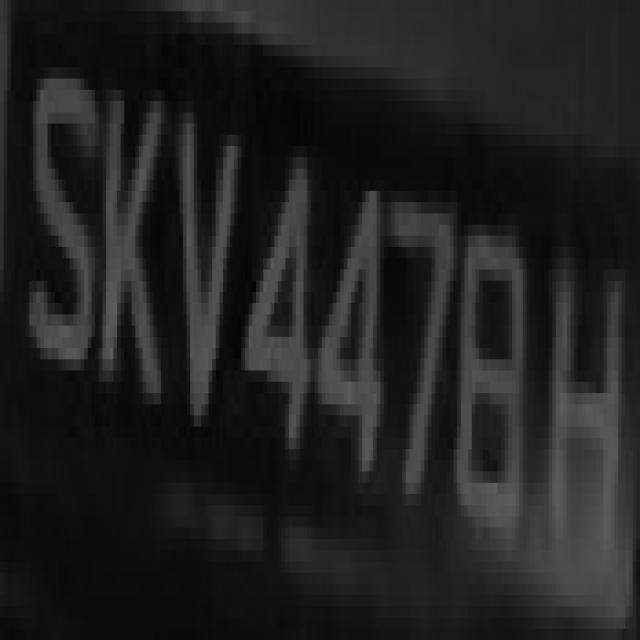4: (238, 101, 311, 472), (315, 146, 384, 505)
7: (395, 112, 453, 539)
8: (454, 191, 530, 561)
H: (545, 213, 629, 618)
K: (84, 22, 168, 426)
S: (29, 34, 99, 393)
V: (158, 67, 242, 449)
